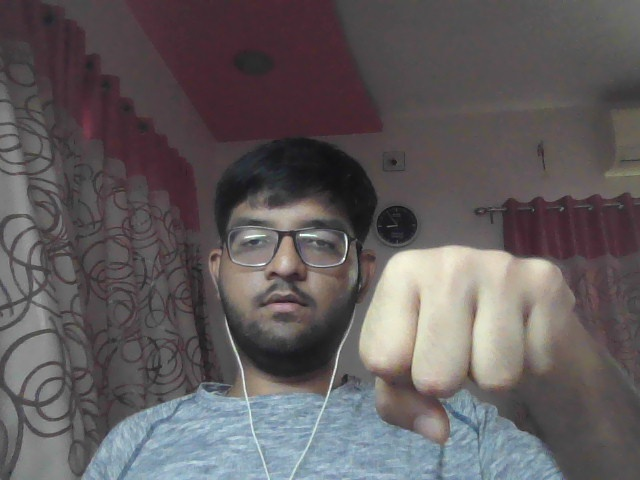હા: (353, 226, 606, 450)
